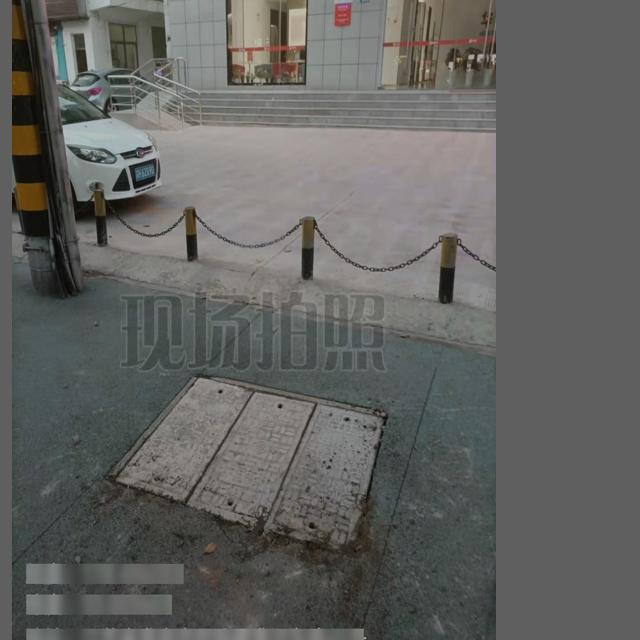good: (104, 373, 385, 555)
